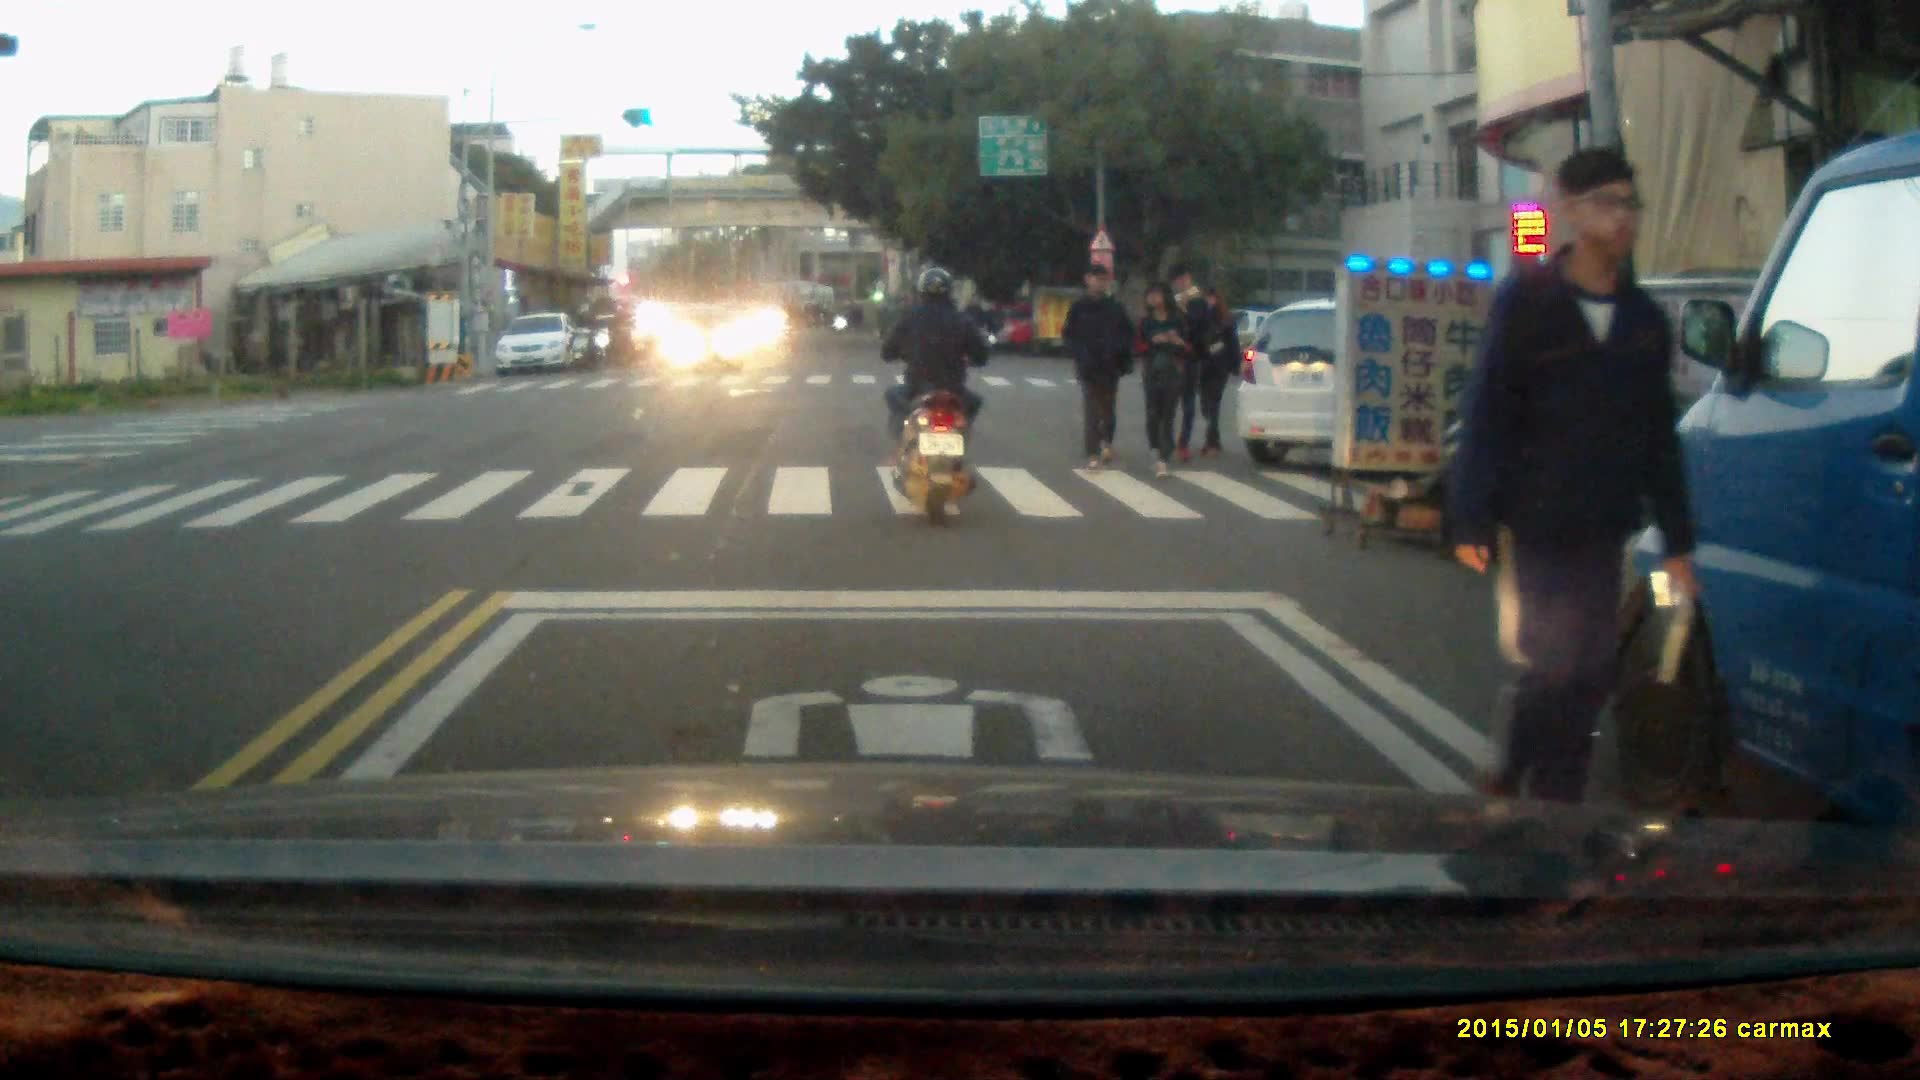pedestrian: (1441, 147, 1698, 839), (1062, 264, 1132, 477), (1131, 280, 1193, 484), (1160, 264, 1206, 470), (1189, 284, 1240, 463)
rider: (879, 263, 1000, 526), (568, 299, 600, 374), (602, 302, 635, 371)
vehicle: (1596, 130, 1920, 887), (1235, 303, 1557, 468), (652, 307, 748, 378), (493, 311, 584, 378)
